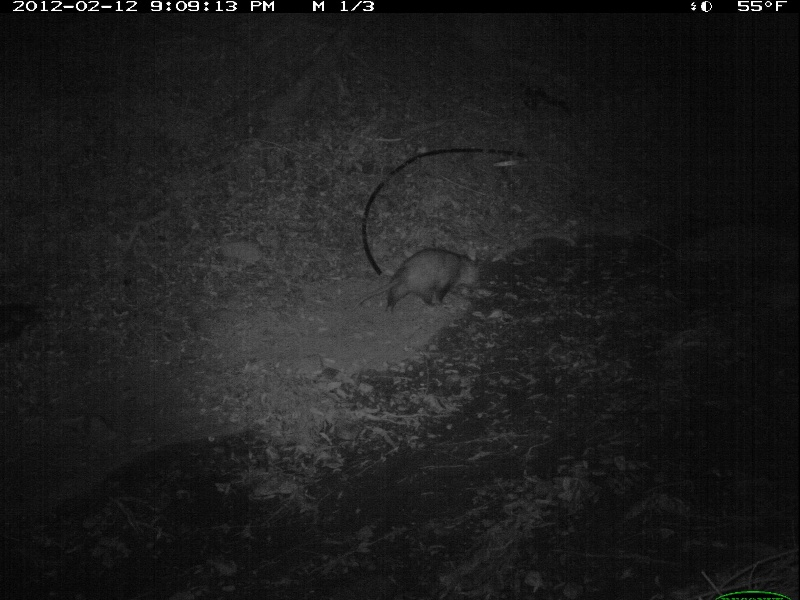opossum: (357, 249, 487, 319)
